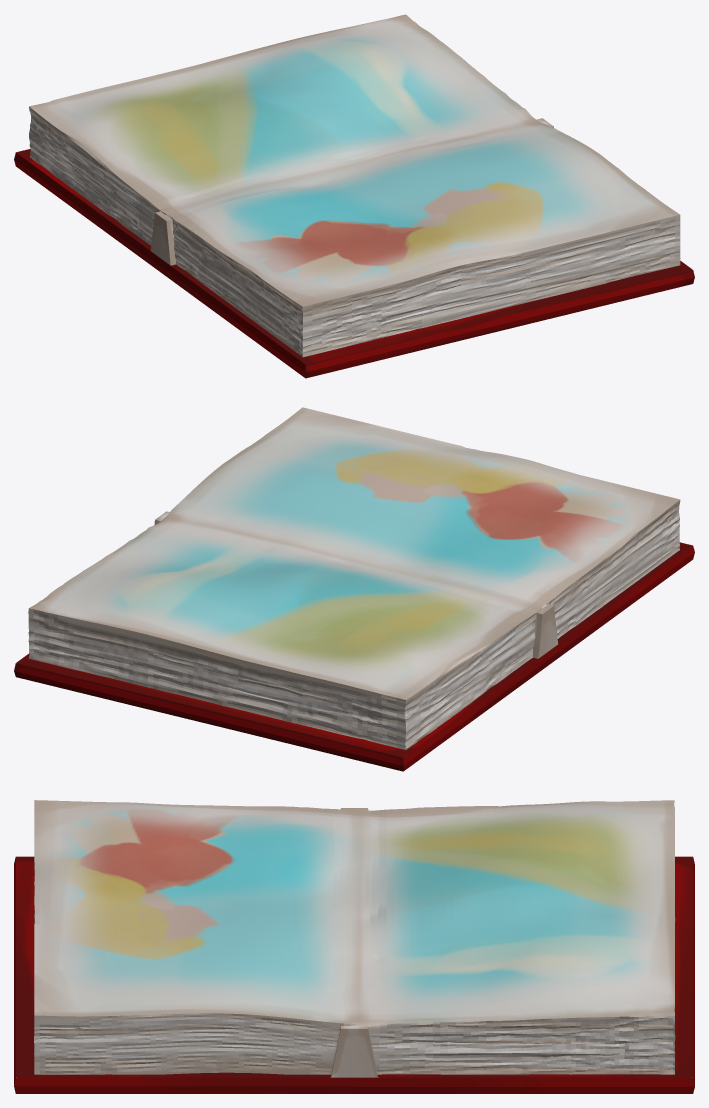
The model's file is OpenedBook.fbx.
The picture shows the model from 3 angles, top to bottom: view 1: azimuth 30°, elevation 25°; view 2: azimuth 150°, elevation 25°; view 3: azimuth 270°, elevation 25°; orthographic projection. The views are drawn at different scales.
Parts seen in each view (by area): view 1: OpenedBook; view 2: OpenedBook; view 3: OpenedBook.
Boxes of the visible parts, box(x1,y1,x2,y2) form: OpenedBook: box(14, 14, 694, 378); OpenedBook: box(14, 407, 694, 771); OpenedBook: box(14, 800, 694, 1093).
Size of the model in its own units: 44.51 by 8.28 by 57.64.
Materials: 2 (2 with a texture image).
